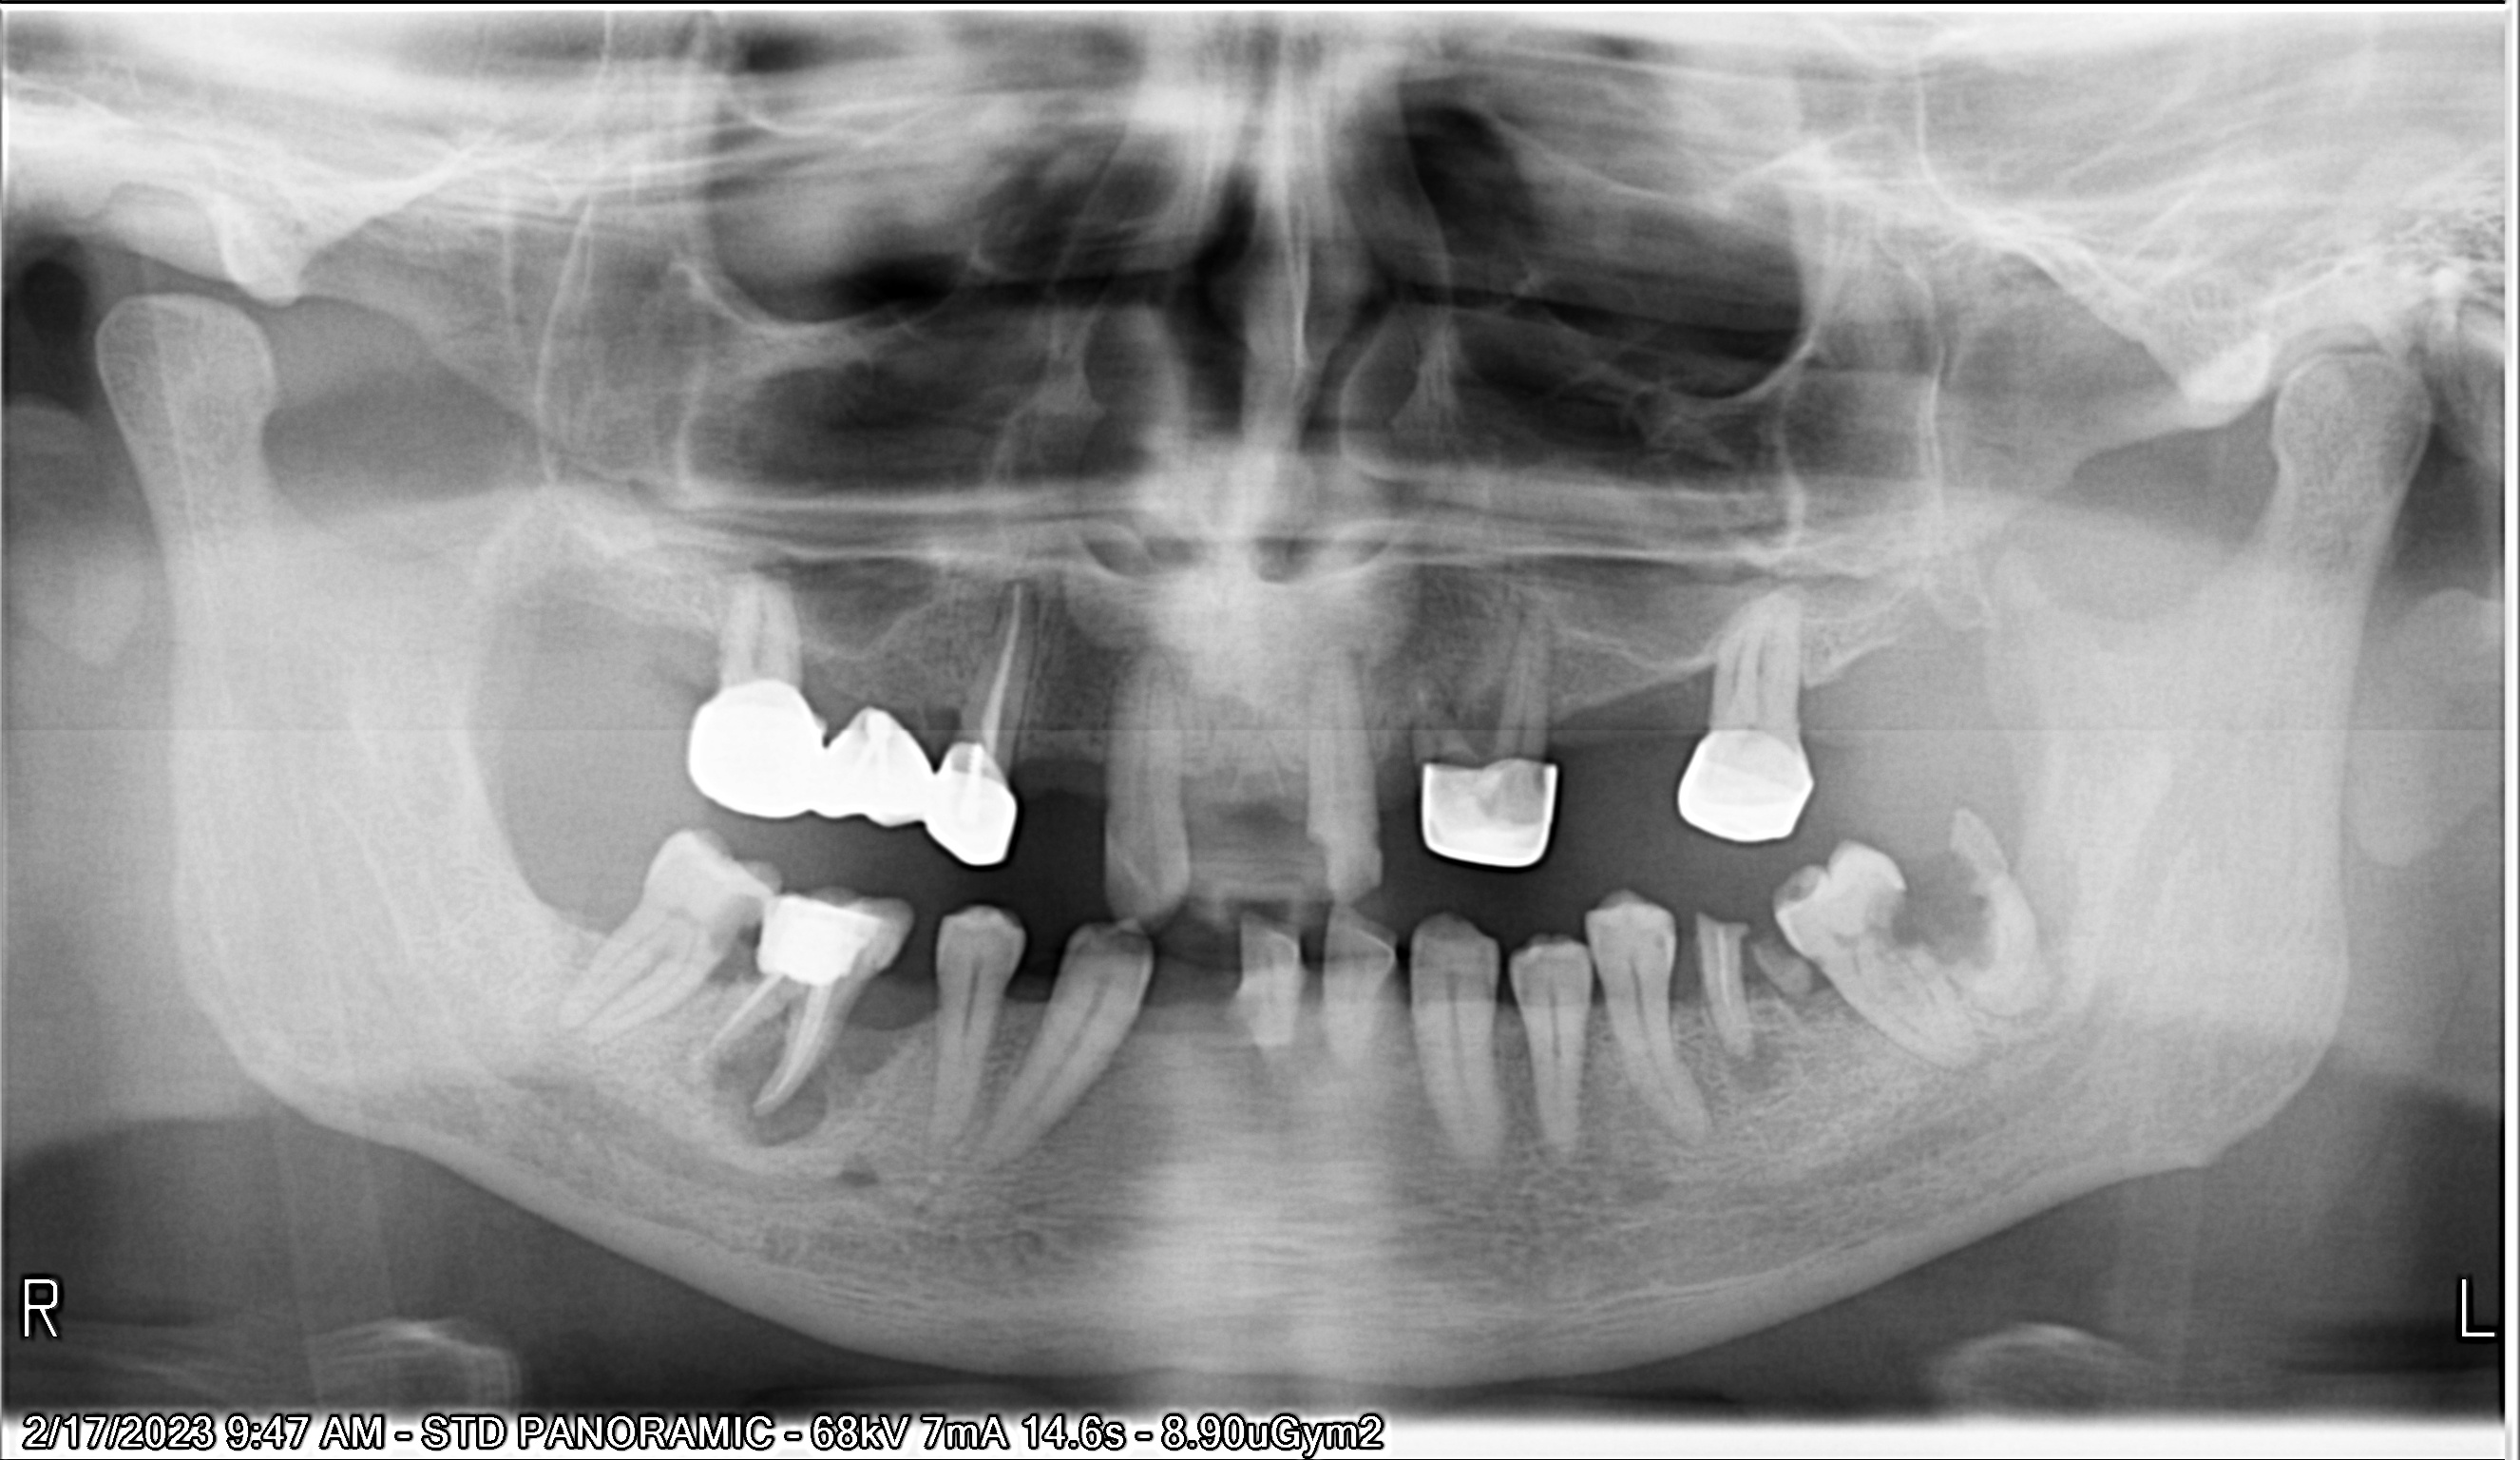API: (686, 1039, 849, 1165), (1695, 1034, 1803, 1111), (976, 553, 1068, 640)
BON: (1653, 638, 1740, 740), (1349, 707, 1407, 820), (1773, 645, 1837, 742), (1273, 744, 1322, 833)
CAR: (1860, 864, 1921, 973), (686, 890, 771, 963)
END: (681, 975, 839, 1111), (971, 572, 1026, 753)
FUR: (1441, 688, 1509, 763), (743, 991, 806, 1069)
PRR: (669, 680, 830, 834), (1669, 723, 1820, 848), (1417, 754, 1565, 867), (820, 702, 933, 831), (917, 744, 1021, 869)
ROT: (1921, 806, 2079, 1043), (1304, 911, 1412, 1067), (1219, 899, 1315, 1057), (1692, 888, 1761, 1053), (1747, 914, 1827, 1019)
